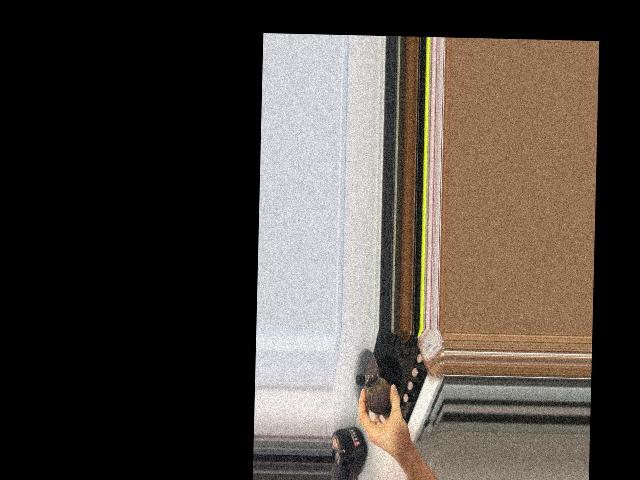beet: (365, 373, 391, 416)
